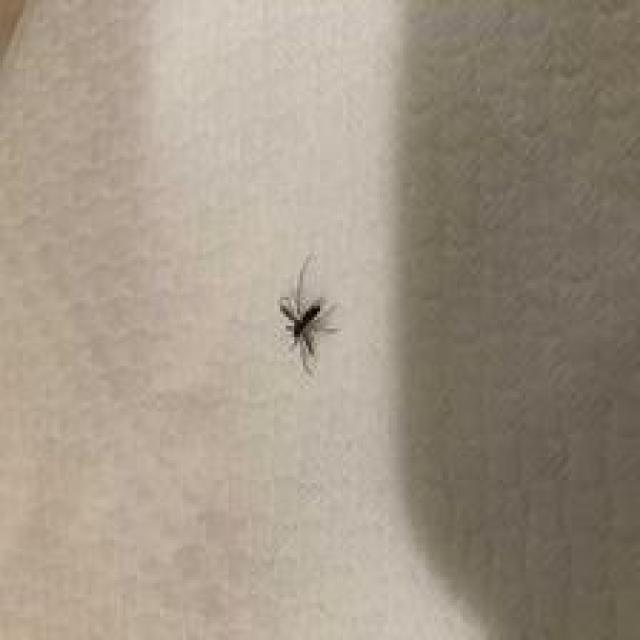Aedes albopictus: (277, 252, 340, 374)
